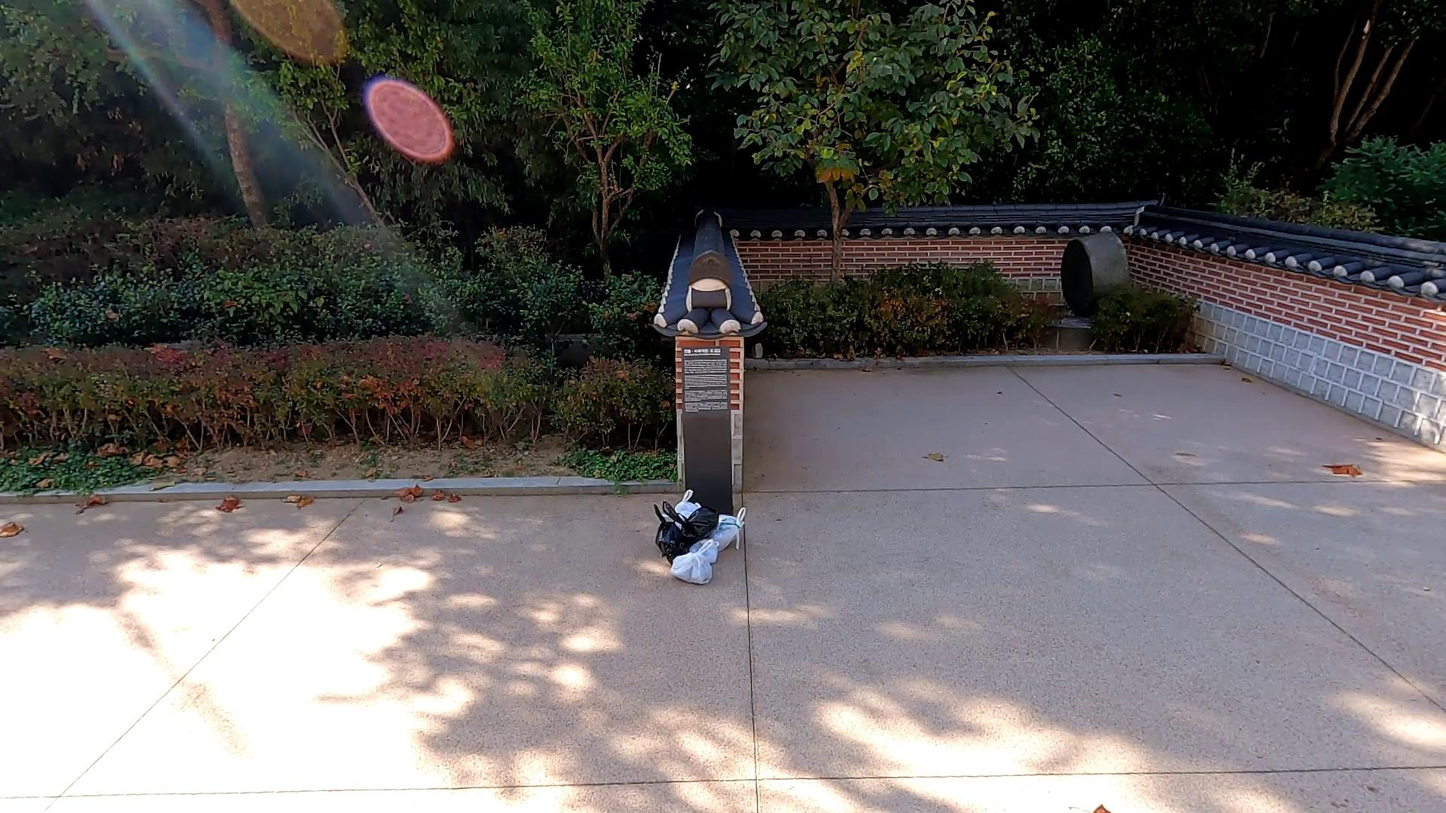trash: (656, 512, 704, 566), (648, 500, 694, 552), (704, 506, 747, 559), (669, 537, 715, 585), (672, 488, 706, 539), (684, 502, 720, 542), (691, 535, 721, 564)
